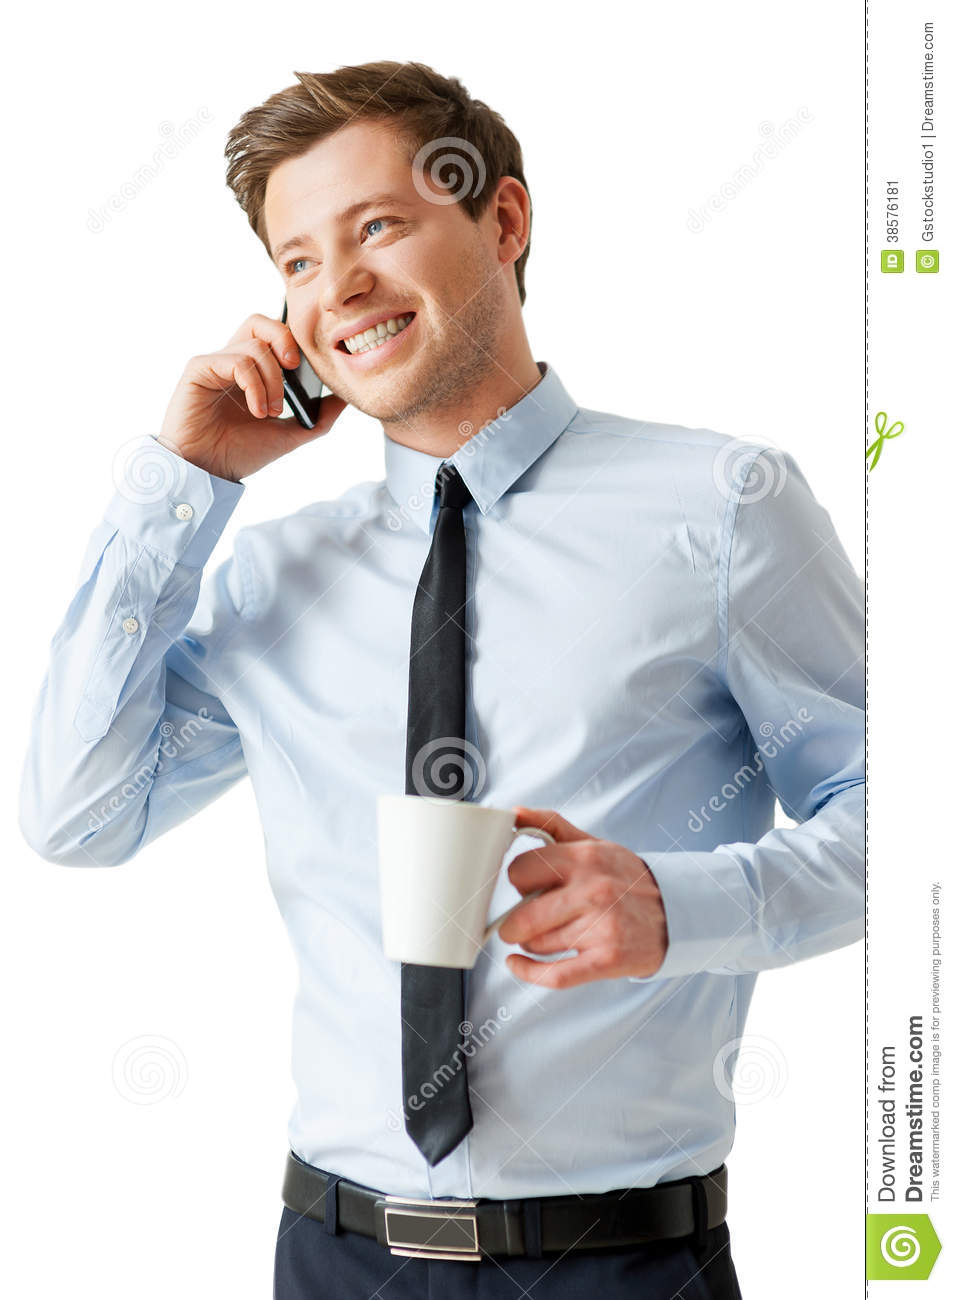phone: (267, 303, 323, 437)
talk: (158, 184, 477, 506)
